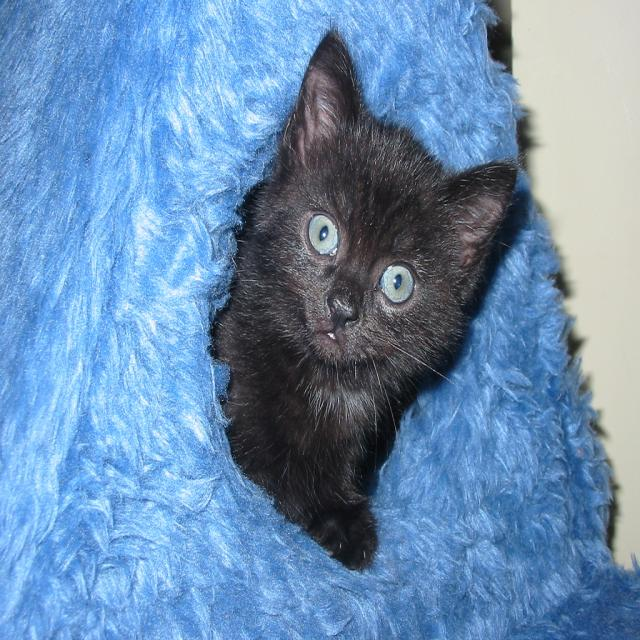cat: (210, 25, 520, 574)
